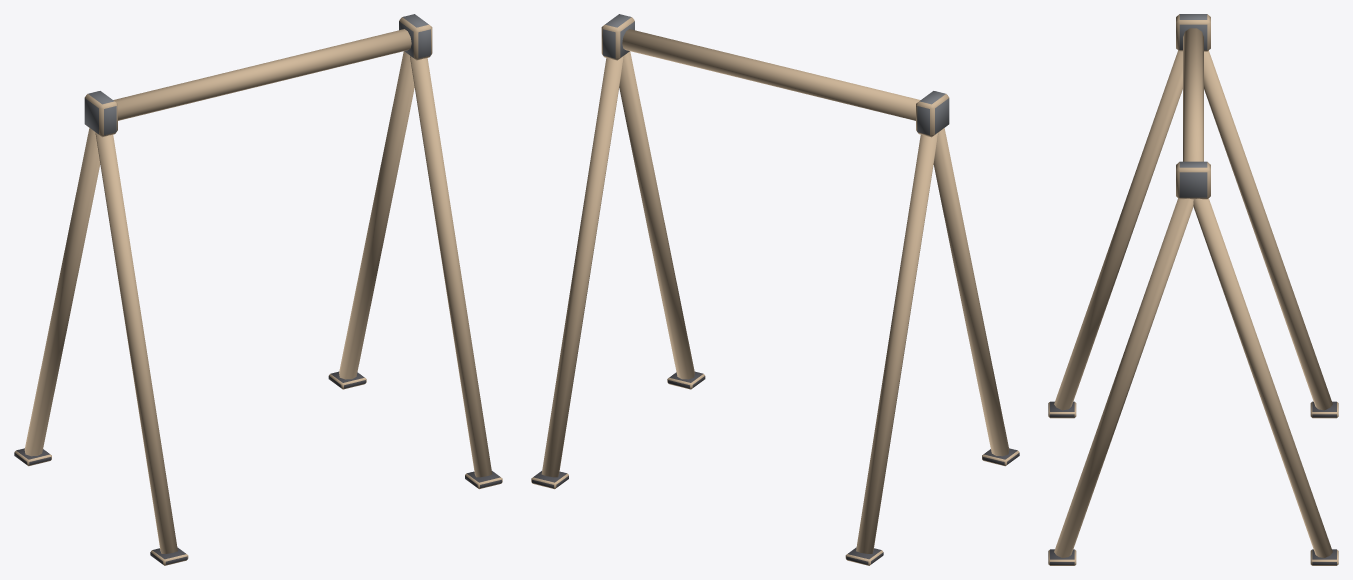
File: swing_frame.glb
3 renders of one model, left to right at view 1: azimuth 30°, elevation 25°; view 2: azimuth 150°, elevation 25°; view 3: azimuth 270°, elevation 25°, orthographic. The views are drawn at different scales.
Visible parts, largest first — view 1: swing_frame; view 2: swing_frame; view 3: swing_frame.
Part boxes in pixels (x1,y1,x2,y2): swing_frame: (14, 14, 502, 565); swing_frame: (531, 14, 1019, 565); swing_frame: (1048, 14, 1338, 565).
Bounding box in the file's own units: 2.16 × 2.5 × 1.66.
